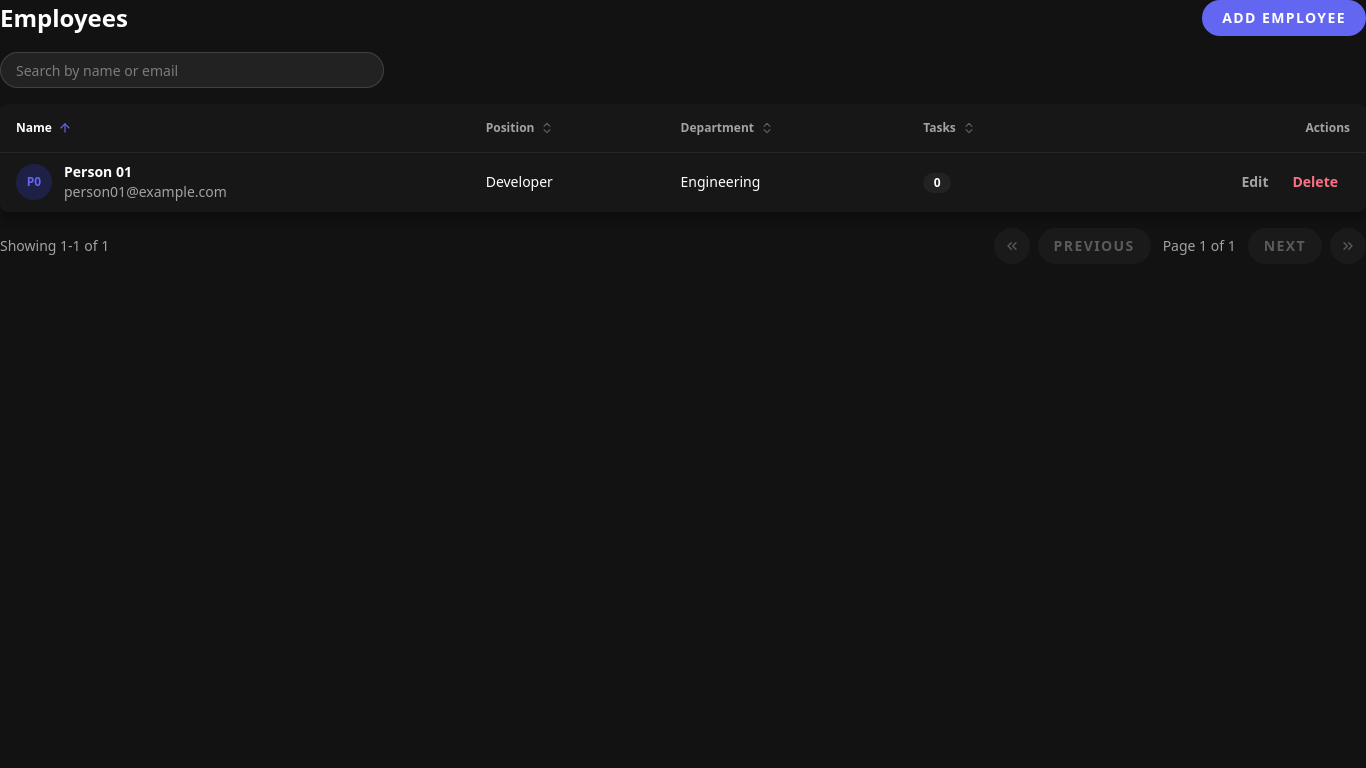
Test: EmployeesPage: adding and editing › does not change the order after an edit
Click the button with aria-label "Edit Person 01". click: (1255, 182)
box: [1229, 168, 1280, 196]
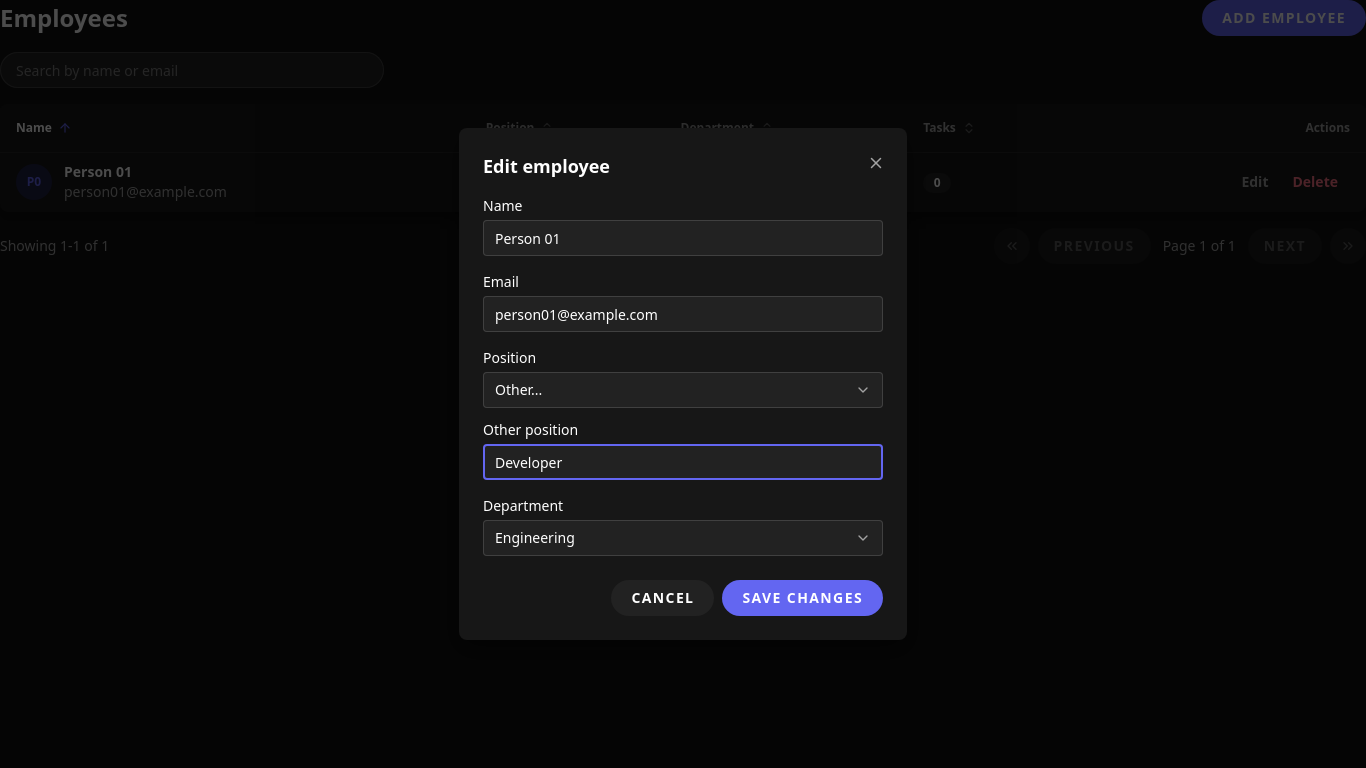
Replace the text in the field labelled "Other position" with "Team Lead". click: (683, 462)
box: [483, 444, 883, 480]
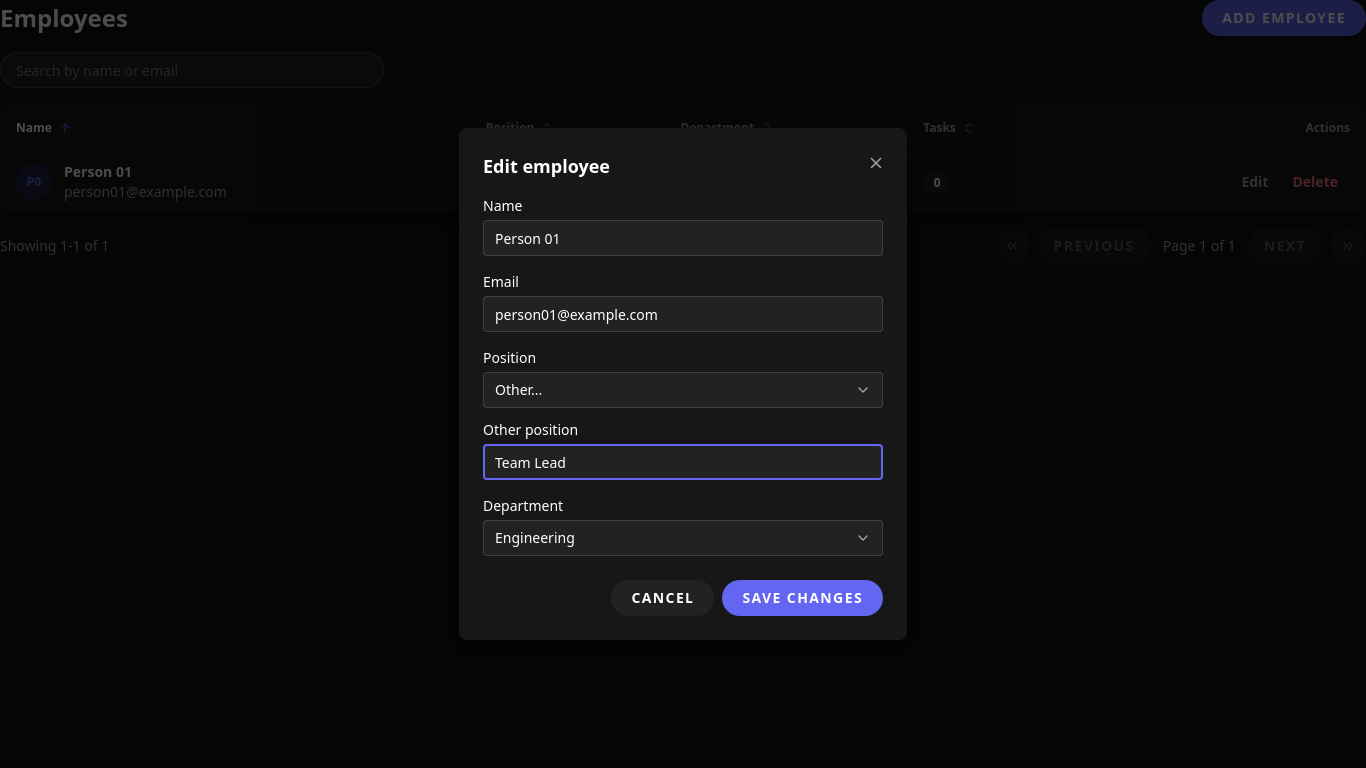
Click the button "Save changes". click: (803, 598)
box: [722, 580, 883, 616]
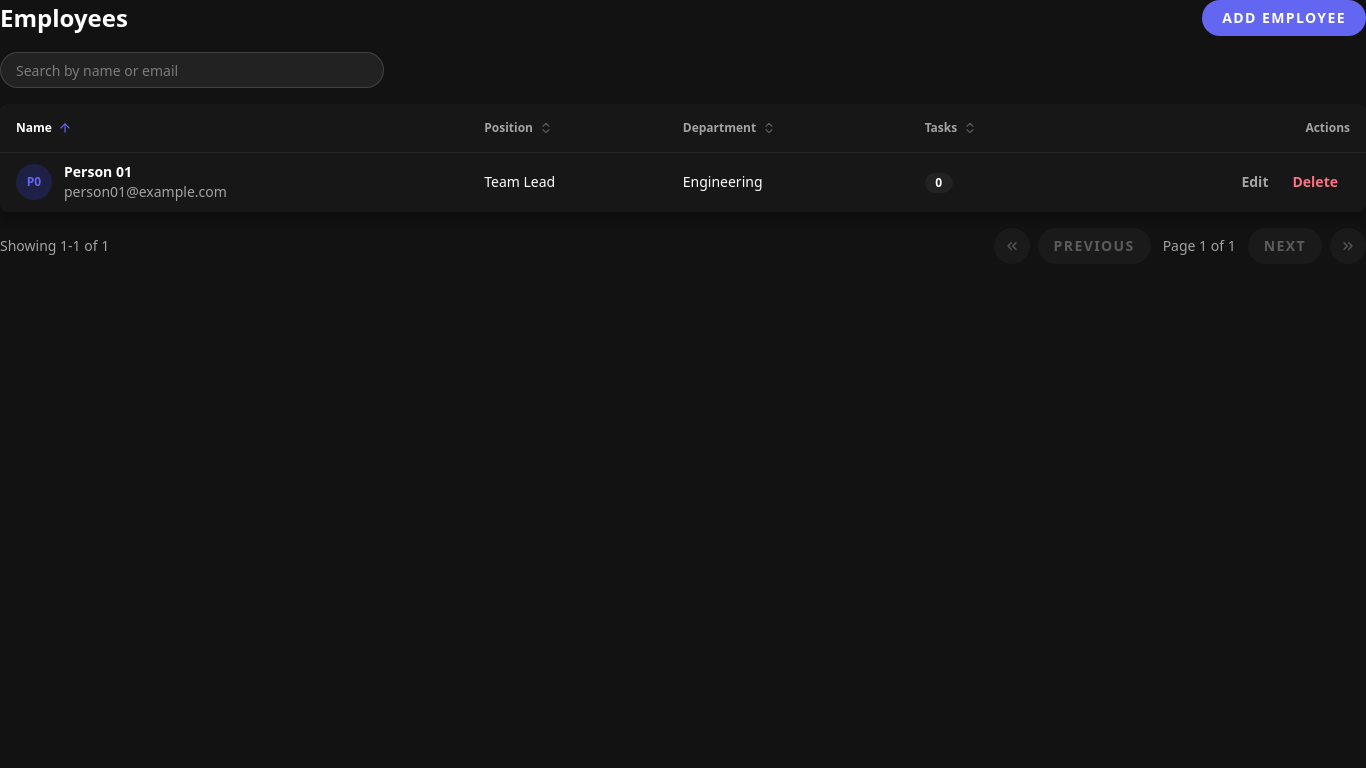
Result: the text "Team Lead" is shown at [468, 152, 667, 212]
